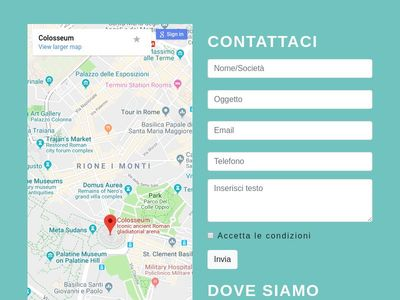checkbox: (206, 230, 215, 242)
textbox: (205, 151, 375, 173)
